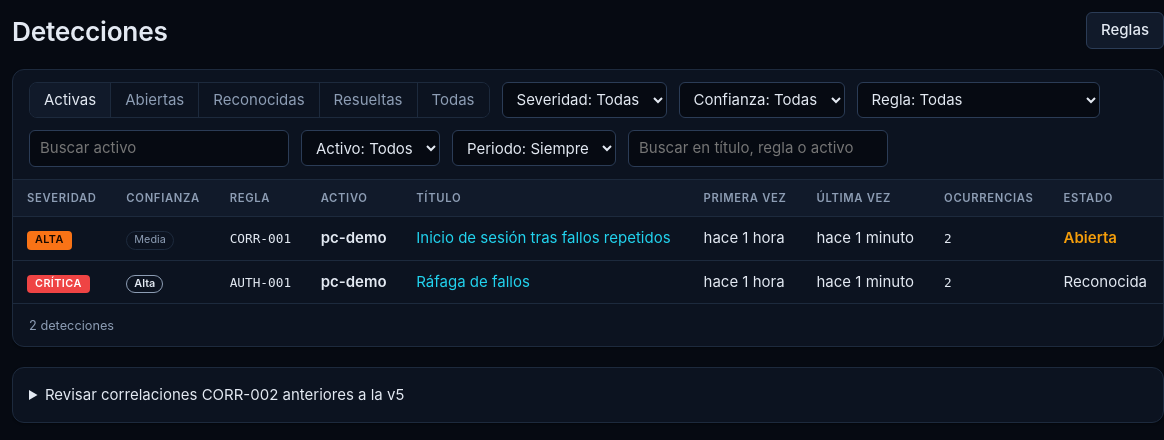
DetectionsPage › los filtros se envían al backend
This screenshot has width=1164, height=440.
Expected: the link "Inicio de sesión tras fallos repetidos" is shown, [416,228,670,247]
Select "Crítica" in the dropdown named "Severidad" at coordinates (584, 100), box [502,82,666,118]
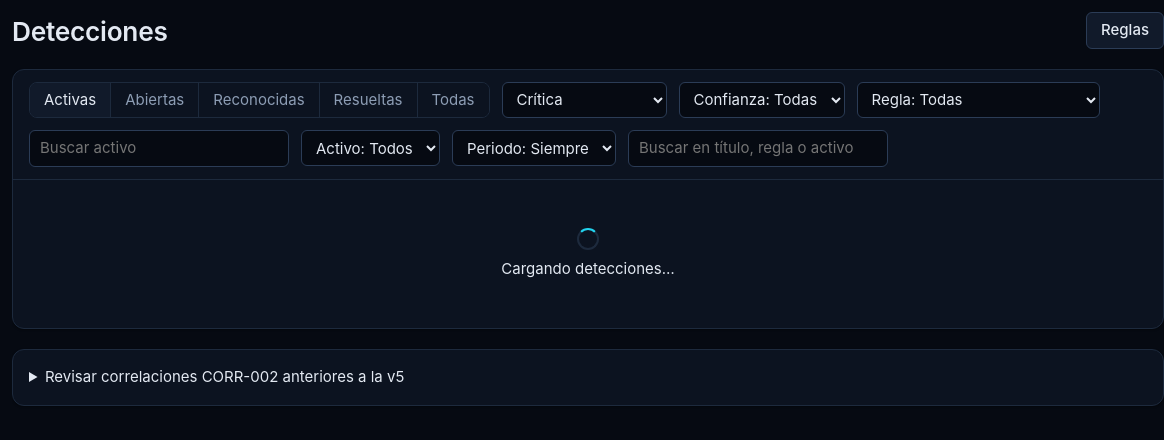
Select "Alta" in the dropdown named "Confianza" at coordinates (762, 100), box [678,82,844,118]
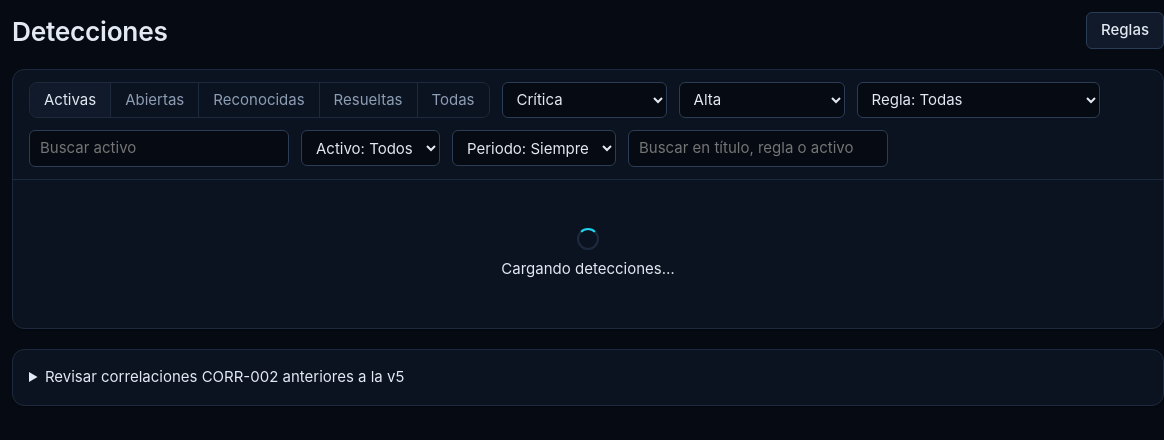
Select "AUTH-001 · Ráfaga de fallos" in the dropdown named "Regla" at coordinates (978, 100), box [856,82,1100,118]
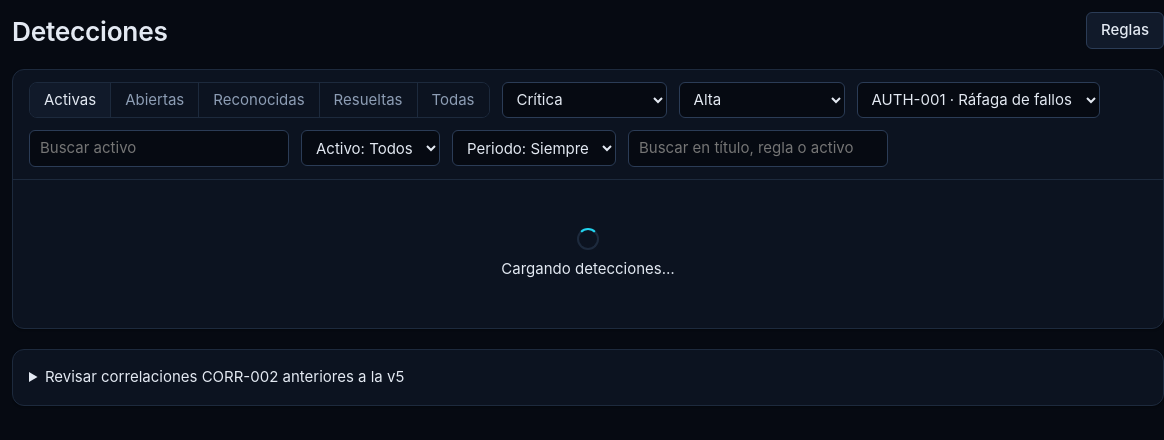
Select "pc-demo" in the dropdown named "Activo" at coordinates (370, 148), box [301,130,440,166]
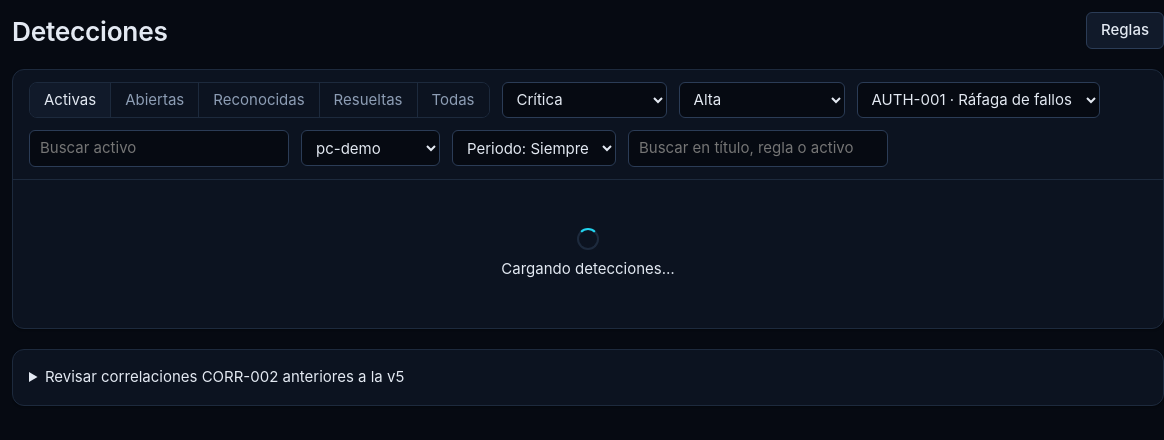
Select "Últimas 24 h" in the dropdown named "Periodo" at coordinates (534, 148), box [452,130,616,166]
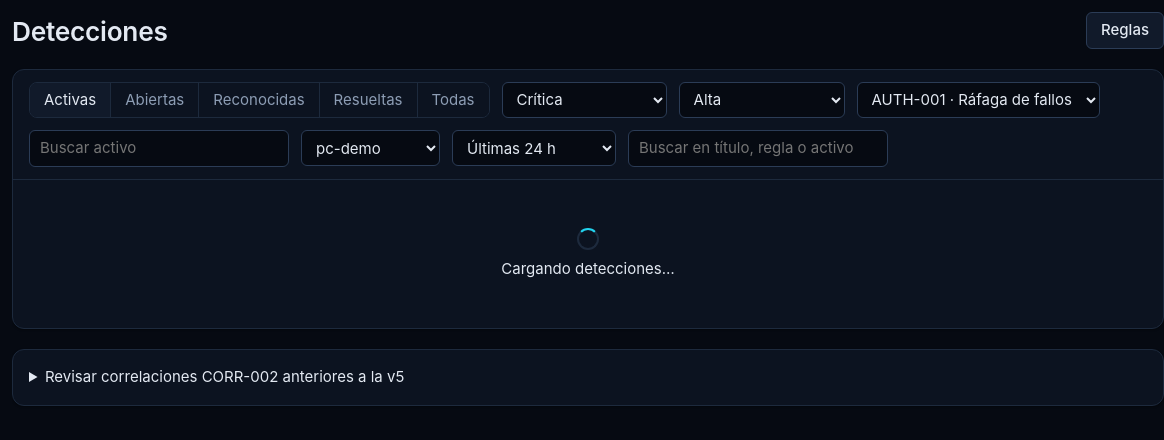
Click the button "Resueltas" at coordinates (368, 100), box [319,82,416,117]
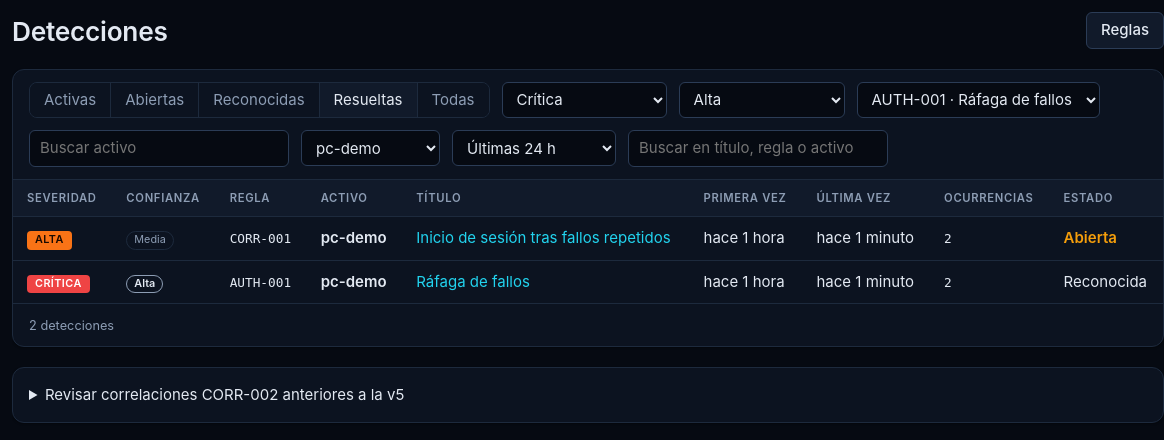
Expected: the cell "AUTH-001" is shown, [216,260,307,303]
